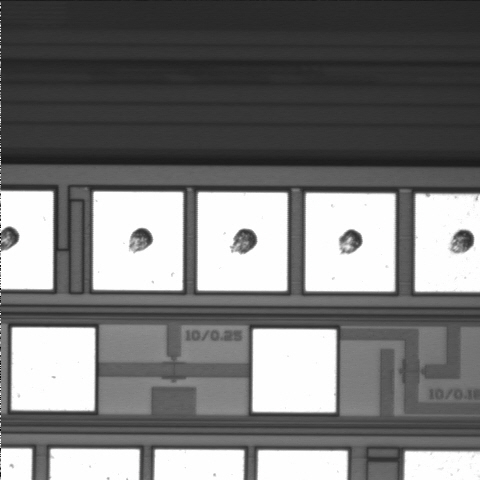pad: (93, 192, 183, 290), (305, 193, 395, 291), (198, 192, 287, 291), (12, 328, 95, 411), (253, 329, 336, 412)
